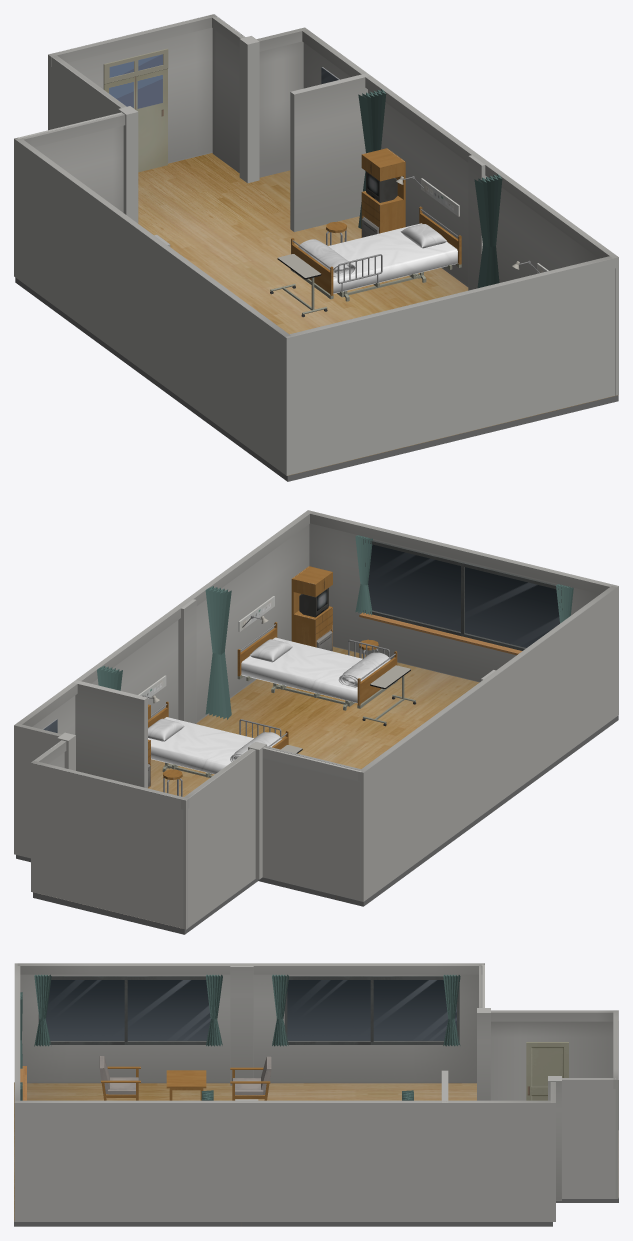
The model's file is infirmary13.fbx.
The picture shows the model from 3 angles, top to bottom: view 1: azimuth 30°, elevation 25°; view 2: azimuth 150°, elevation 25°; view 3: azimuth 270°, elevation 25°; orthographic projection. The views are drawn at different scales.
Visible parts, largest first — view 1: Cube.063, Cube.066, Cube.096, Cube.062, Cube.058, Cube.069, Cube.067, Cube.060, Cube.012, Cube.068, Cube.019, Cube.070 (+12 smaller); view 2: Cube.066, Cube.069, Cube.096, Cube.062, Cube.063, Cube.082, Cube.067, Cube.070, Cube.058, Cube, Cube.012, Cube.060 (+11 smaller); view 3: Cube.062, Cube.066, Cube.087, Cube.097, Cube.096, Cube.070, Cube.068, Cube.028, Cube.002, Cube.024, Cube.063, Cube.069 (+11 smaller).
Part boxes in pixels (x1,y1,x2,y2): Cube.063: [283, 256, 615, 475]; Cube.066: [14, 138, 290, 474]; Cube.096: [15, 153, 618, 481]; Cube.062: [302, 29, 618, 395]; Cube.058: [290, 73, 370, 231]; Cube.069: [48, 14, 216, 163]; Cube.067: [17, 112, 125, 212]; Cube.060: [256, 27, 307, 177]; Cube.012: [328, 223, 457, 293]; Cube.068: [211, 15, 245, 172]; Cube.019: [103, 68, 167, 172]; Cube.070: [50, 55, 126, 129]; Cube.066: [358, 586, 617, 901]; Cube.069: [31, 760, 189, 929]; Cube.096: [16, 646, 618, 934]; Cube.062: [17, 510, 312, 734]; Cube.063: [309, 511, 618, 715]; Cube.082: [363, 539, 562, 650]; Cube.067: [262, 746, 363, 901]; Cube.070: [181, 748, 255, 929]; Cube.058: [73, 680, 147, 788]; Cube: [241, 637, 362, 703]; Cube.012: [148, 717, 253, 774]; Cube.060: [14, 723, 61, 858]; Cube.062: [14, 1100, 552, 1221]; Cube.066: [17, 963, 484, 1083]; Cube.087: [284, 976, 459, 1044]; Cube.097: [38, 976, 210, 1044]; Cube.096: [14, 1082, 618, 1226]; Cube.070: [491, 1010, 618, 1129]; Cube.068: [562, 1078, 615, 1198]; Cube.028: [230, 966, 253, 1085]; Cube.002: [526, 1042, 568, 1100]; Cube.024: [477, 1008, 490, 1100]; Cube.063: [14, 963, 20, 1100]; Cube.069: [613, 1010, 618, 1198].
Size of the model in its own units: 11539 by 4804 by 21114.
